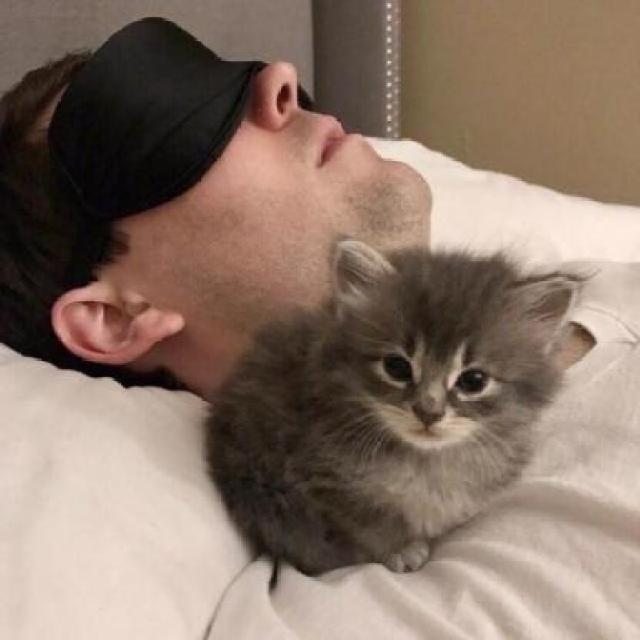cat: (176, 220, 598, 580)
